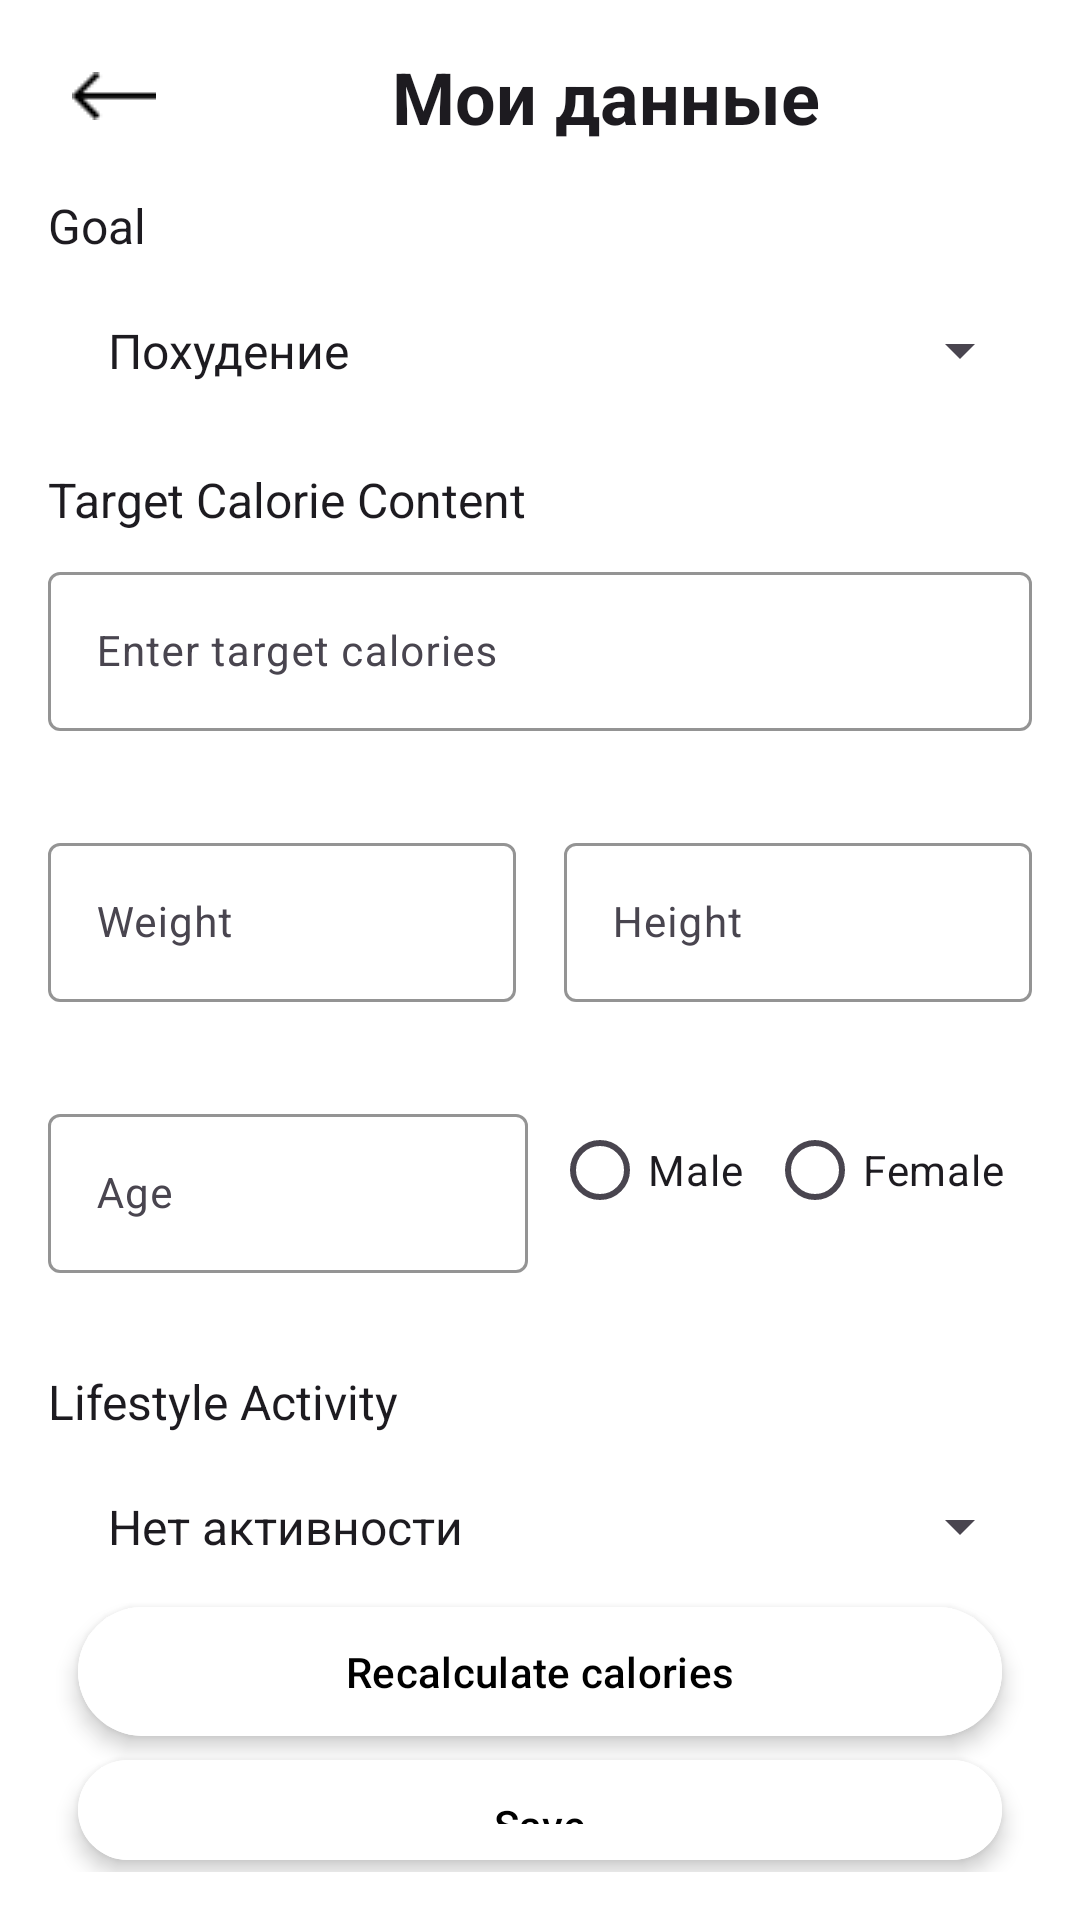

Screen size 1080 × 1920. Icon name, then its center in pixels as (x,y):
Back: (114,96)
